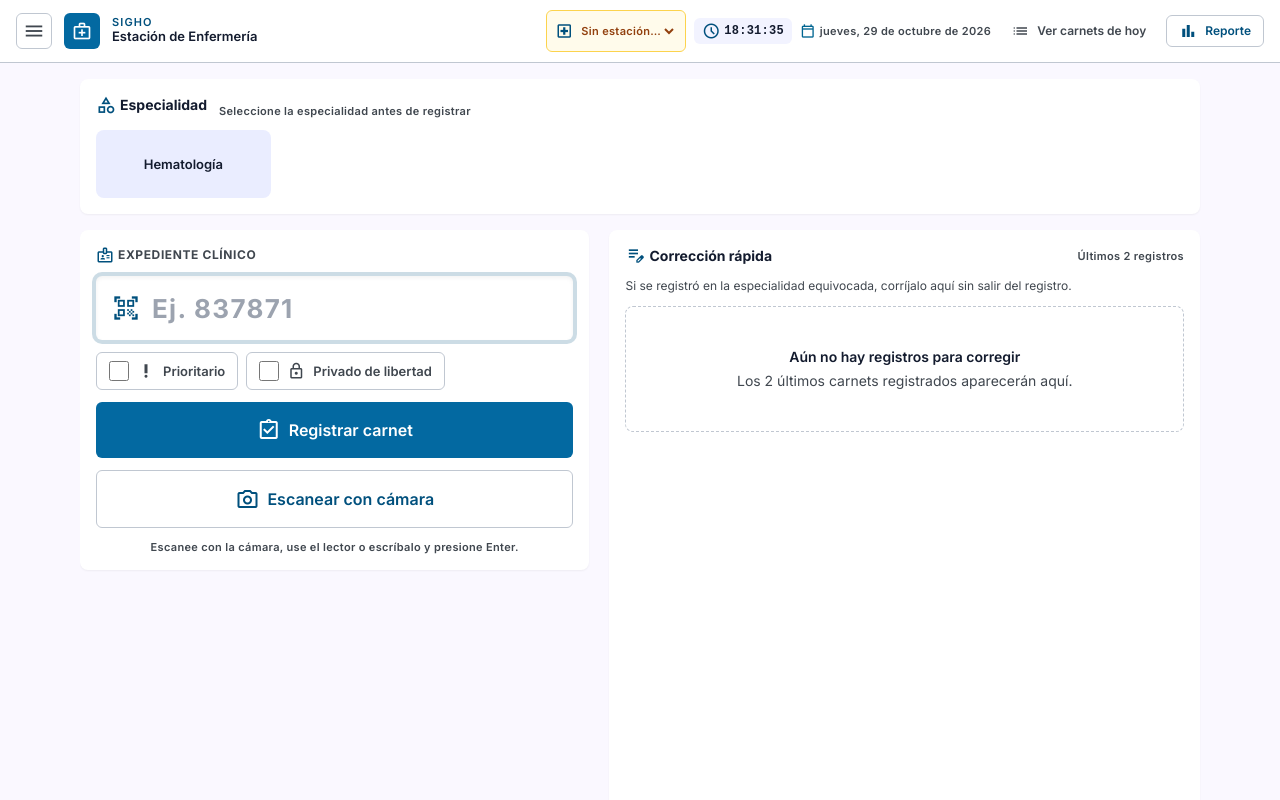
it: RegistroCarnetsPage › avisa cuando el expediente no existe (404)
Click the radio button labelled "Hematología". click: (183, 164)
box: [96,130,271,198]
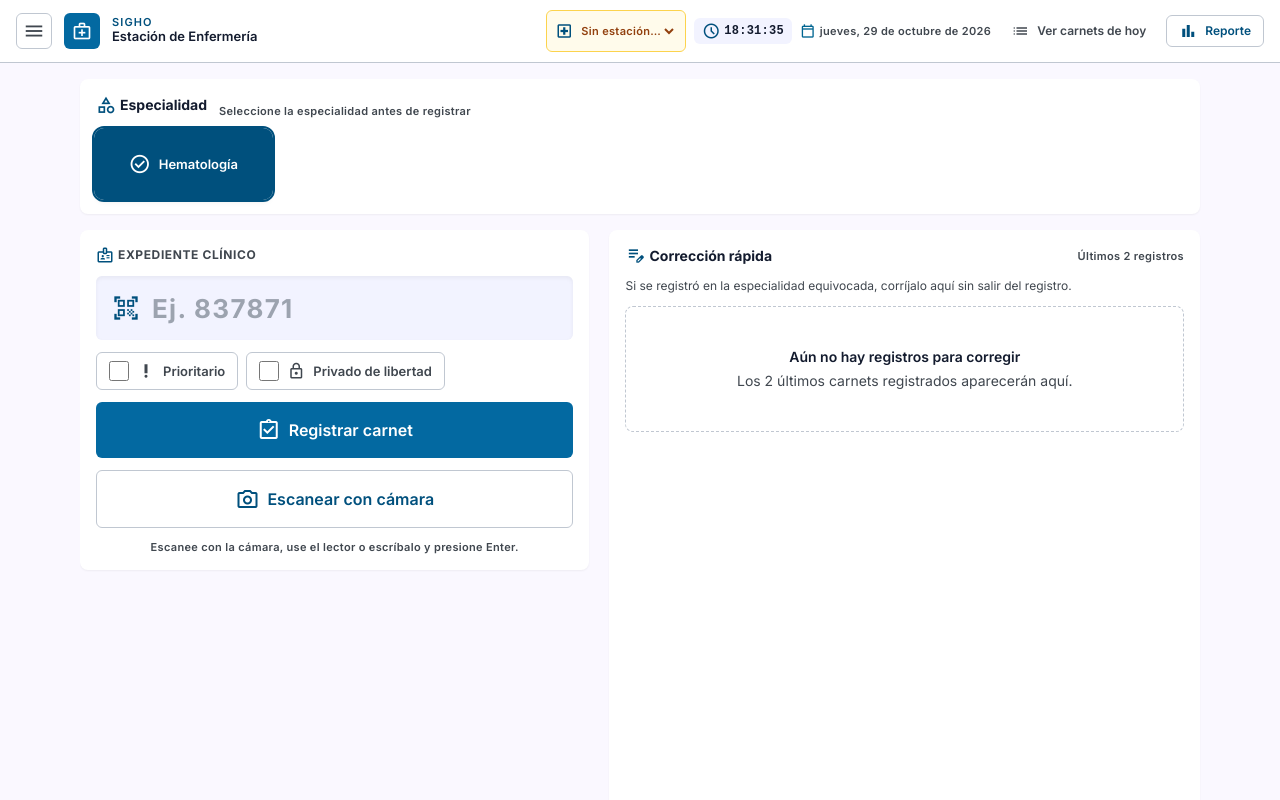
Type "000000" into the field with placeholder "Ej. 837871". click: (335, 308)
box: [96,276,574,340]
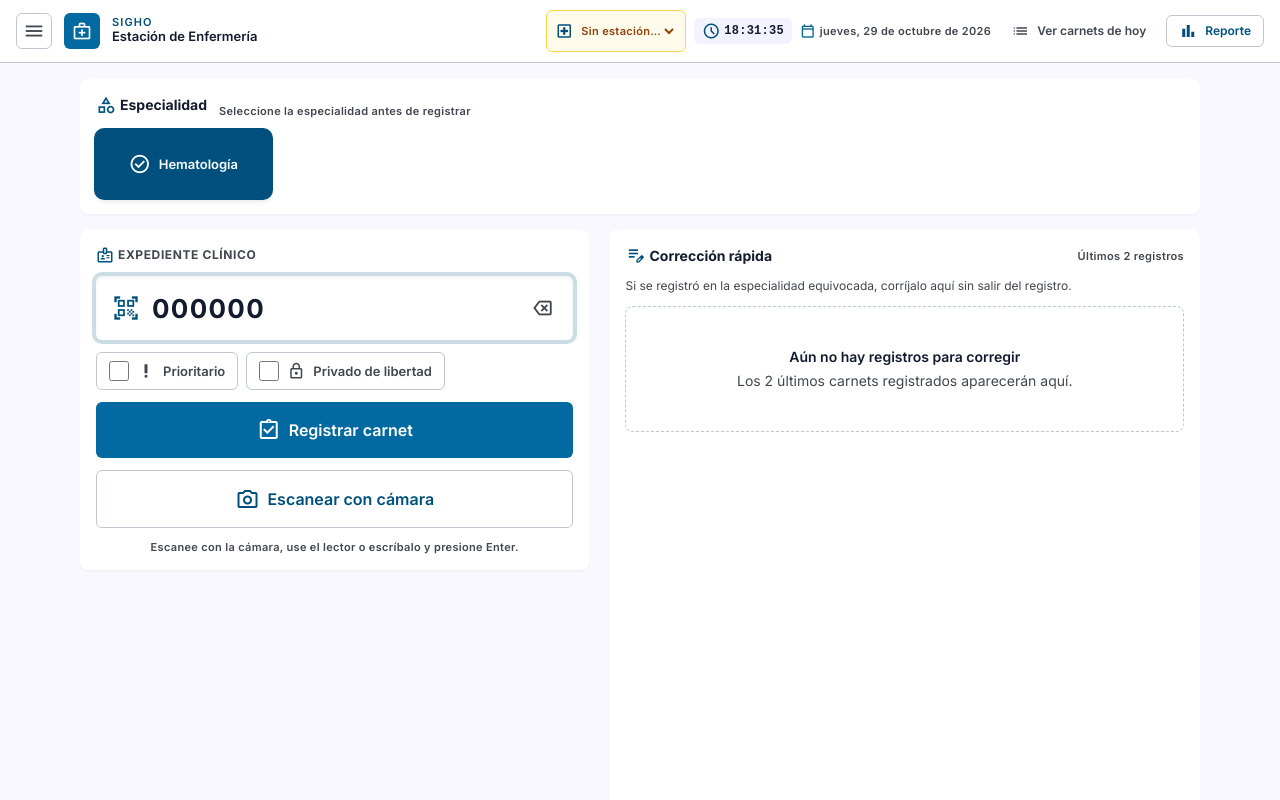
Click the button "Registrar carnet". click: (335, 430)
box: [96,402,574,458]
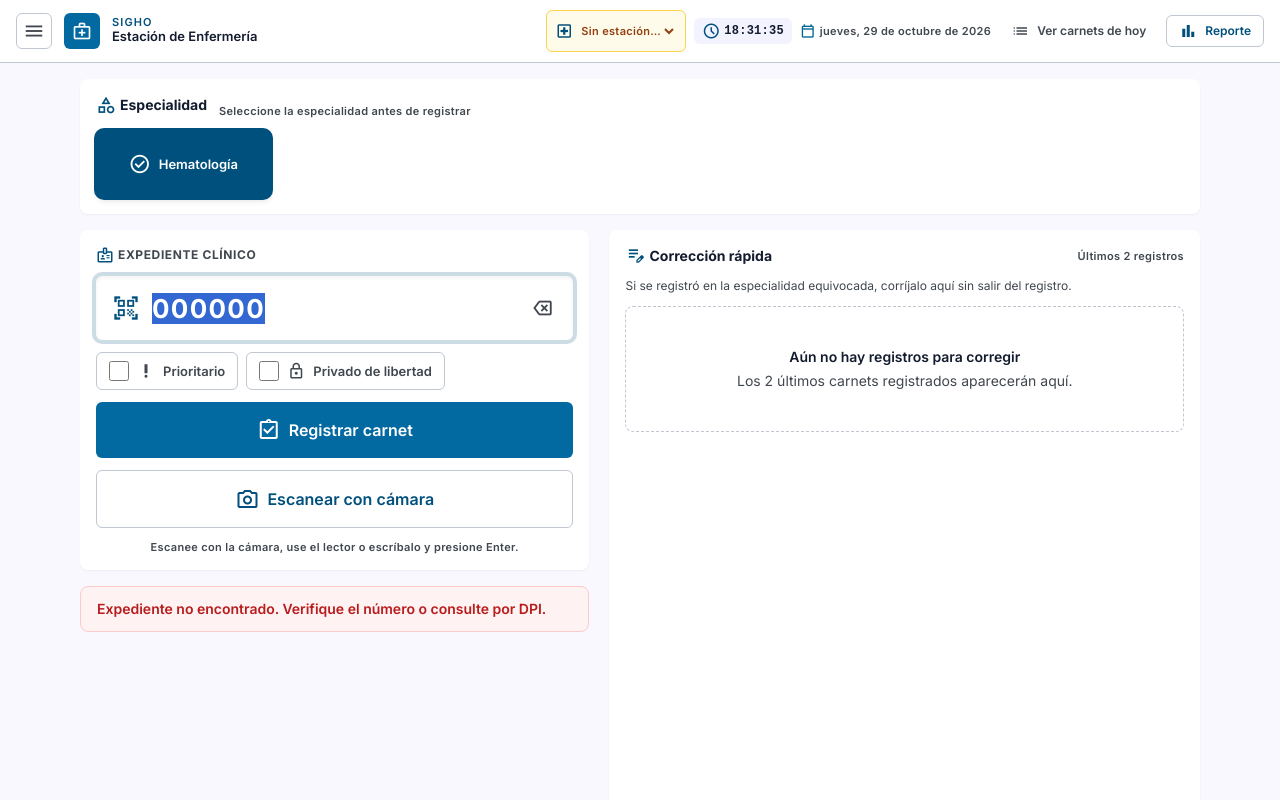
Now the text "Expediente no encontrado" is shown, box [97,600,546,617]
